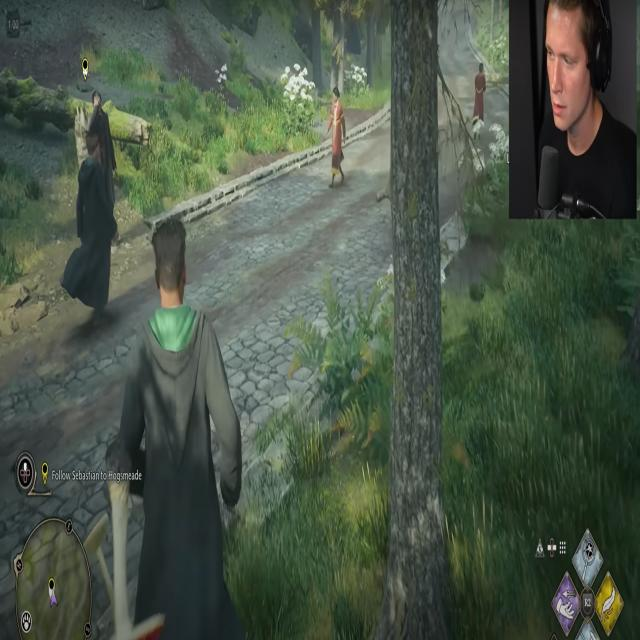compass: (48, 577, 56, 604), (41, 461, 49, 487), (82, 57, 88, 83)
